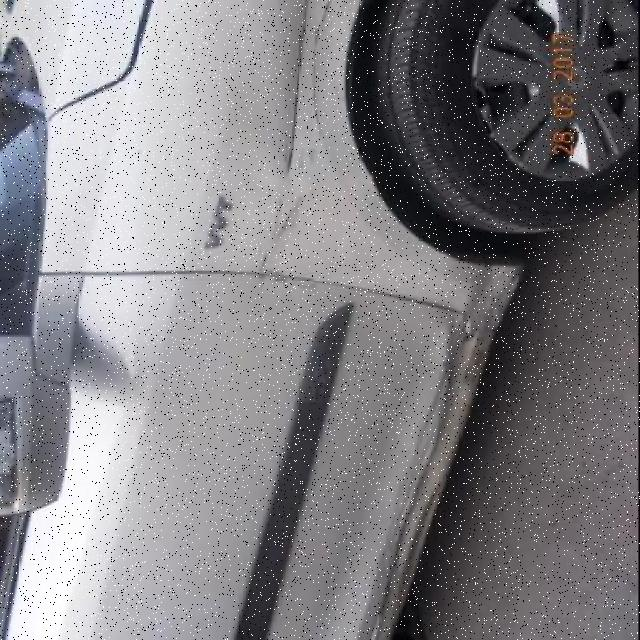damage: (375, 262, 528, 640), (278, 0, 342, 172), (262, 190, 310, 240), (259, 252, 317, 290)
